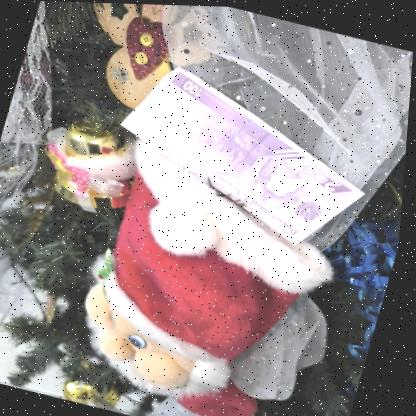one_hundred-back-vef: (98, 54, 392, 257)
